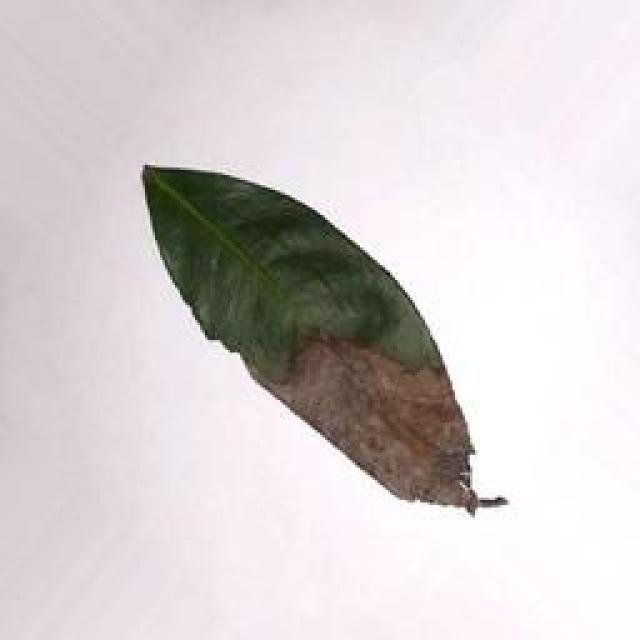Brown Blight: (137, 162, 504, 517)
